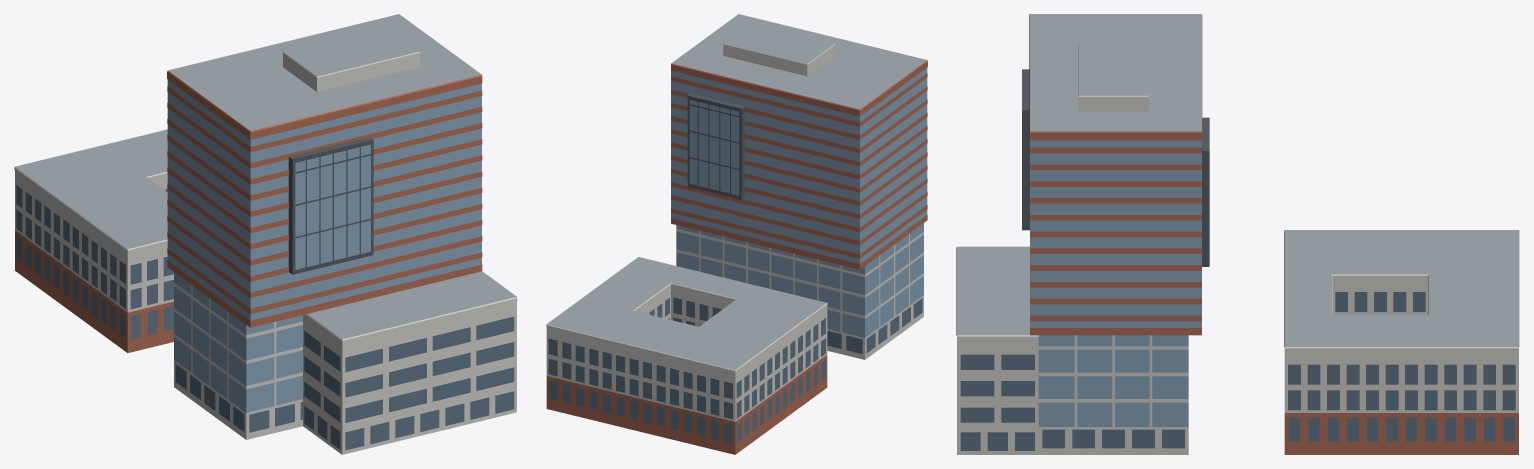
File: ral-the-dillon.glb
3 renders of one model, left to right at view 1: azimuth 30°, elevation 25°; view 2: azimuth 150°, elevation 25°; view 3: azimuth 270°, elevation 25°, orthographic. The views are drawn at different scales.
Visible parts, largest first — view 1: The Dillon; view 2: The Dillon; view 3: The Dillon.
Boxes of the visible parts, x1,y1,x2,y2 form: The Dillon: [14, 14, 517, 454]; The Dillon: [546, 14, 927, 454]; The Dillon: [956, 14, 1519, 454].
Size of the model in its own units: 63.2 by 85 by 128.
